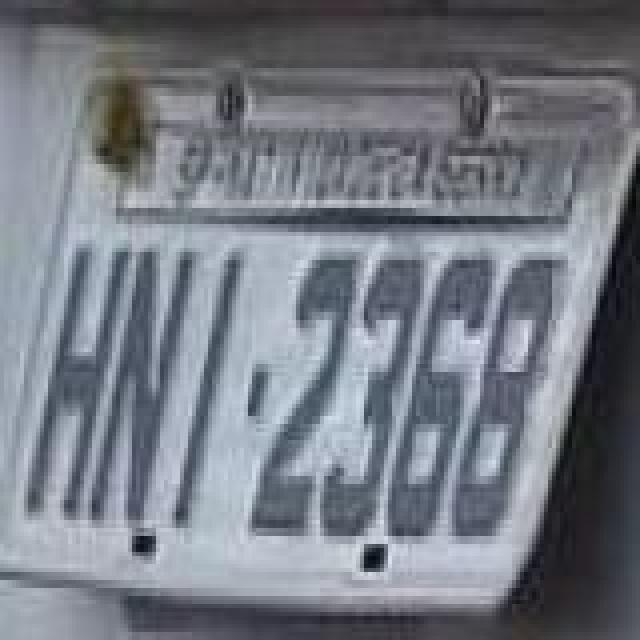1: (174, 254, 242, 530)
2: (248, 248, 360, 536)
3: (320, 262, 432, 538)
6: (384, 256, 496, 544)
8: (448, 262, 560, 538)
H: (24, 242, 136, 518)
N: (88, 240, 200, 528)
